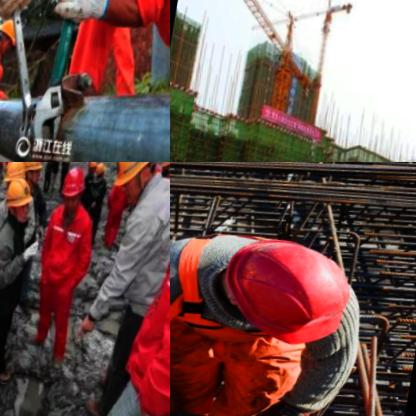helmet: (214, 237, 364, 348), (107, 162, 170, 204), (4, 176, 36, 218), (0, 15, 28, 57), (61, 166, 87, 208), (3, 162, 31, 195), (21, 162, 48, 186), (95, 162, 110, 181), (88, 162, 102, 176)
